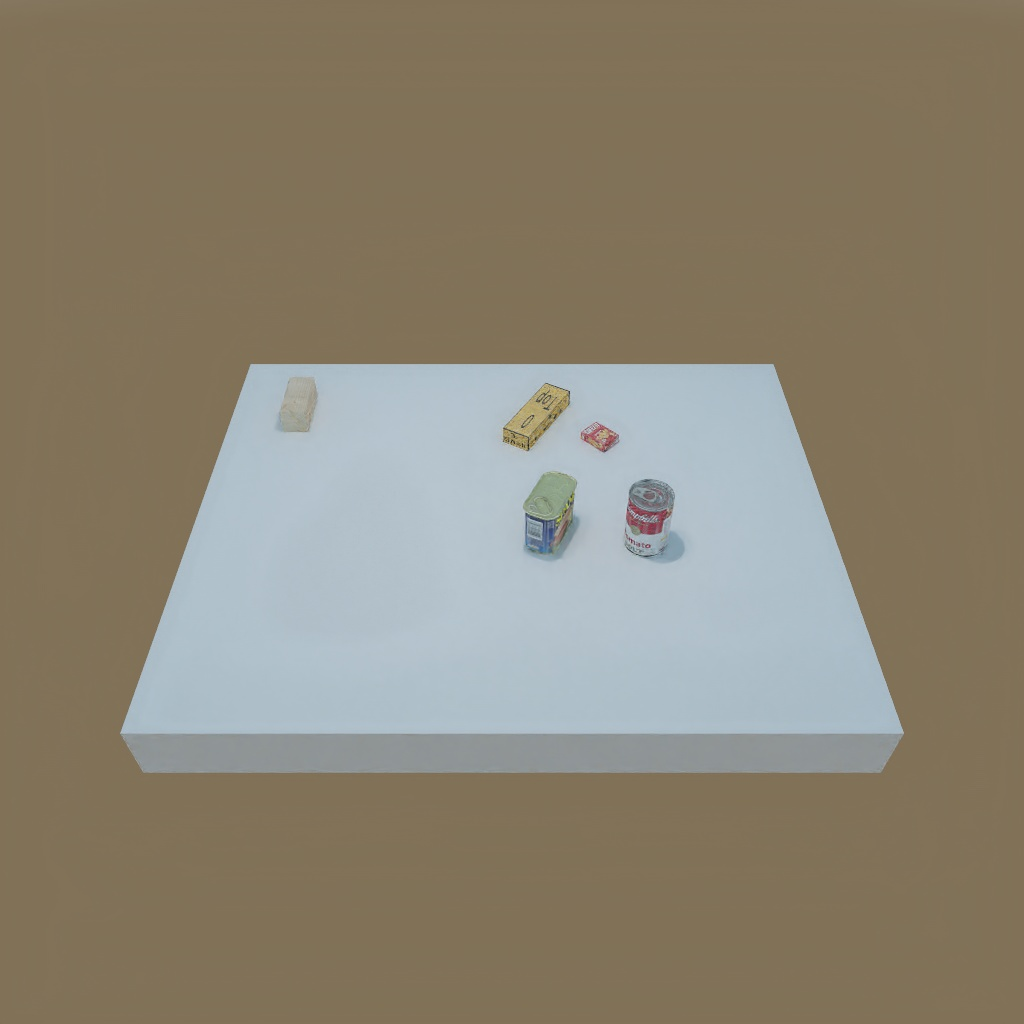jenga: (499, 382, 571, 447)
potted_meat_can: (523, 470, 577, 559)
tomato_soup_can: (624, 480, 681, 558)
wood_block: (281, 374, 318, 441)
